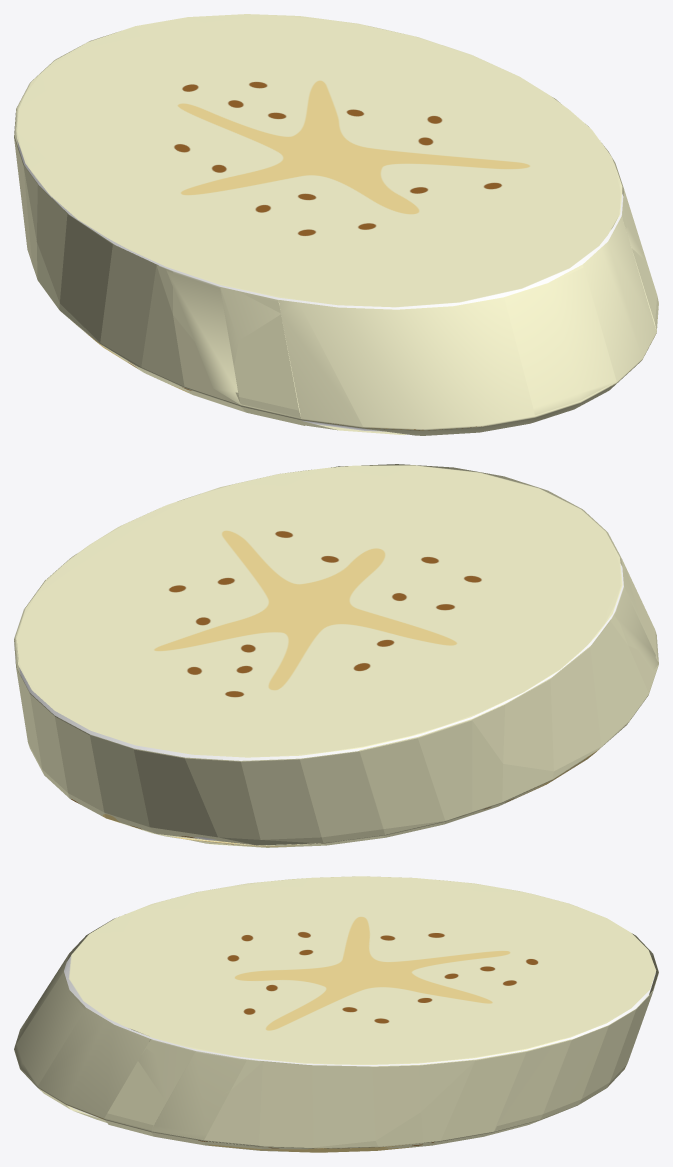
The model's file is banana.glb.
3 views of the same model, one above another, from view 1: azimuth 30°, elevation 25°; view 2: azimuth 150°, elevation 25°; view 3: azimuth 270°, elevation 25° (orthographic). The views are drawn at different scales.
Parts seen in each view (by area): view 1: 香蕉.001, 香蕉.006, 香蕉.005, 圓形, 香蕉.004; view 2: 香蕉.001, 香蕉.007, 香蕉.005, 圓形, 香蕉.006; view 3: 香蕉.001, 香蕉.004, 香蕉.006, 香蕉.007, 圓形.
Boxes of the visible parts, box(x1,y1,x2,y2) form: 香蕉.001: box(16, 14, 622, 307); 香蕉.006: box(166, 189, 658, 435); 香蕉.005: box(14, 109, 304, 425); 圓形: box(17, 140, 623, 431); 香蕉.004: box(552, 97, 658, 330); 香蕉.001: box(15, 465, 622, 757); 香蕉.007: box(16, 667, 494, 847); 香蕉.005: box(359, 559, 658, 838); 圓形: box(19, 563, 623, 840); 香蕉.006: box(331, 464, 658, 671); 香蕉.001: box(68, 876, 656, 1064); 香蕉.004: box(105, 1039, 571, 1152); 香蕉.006: box(14, 918, 246, 1139); 香蕉.007: box(433, 933, 658, 1145); 圓形: box(64, 955, 655, 1117).
Bounding box in the file's own units: 2.02 × 0.4189 × 2.79.
Materials: 2 (1 with a texture image).
